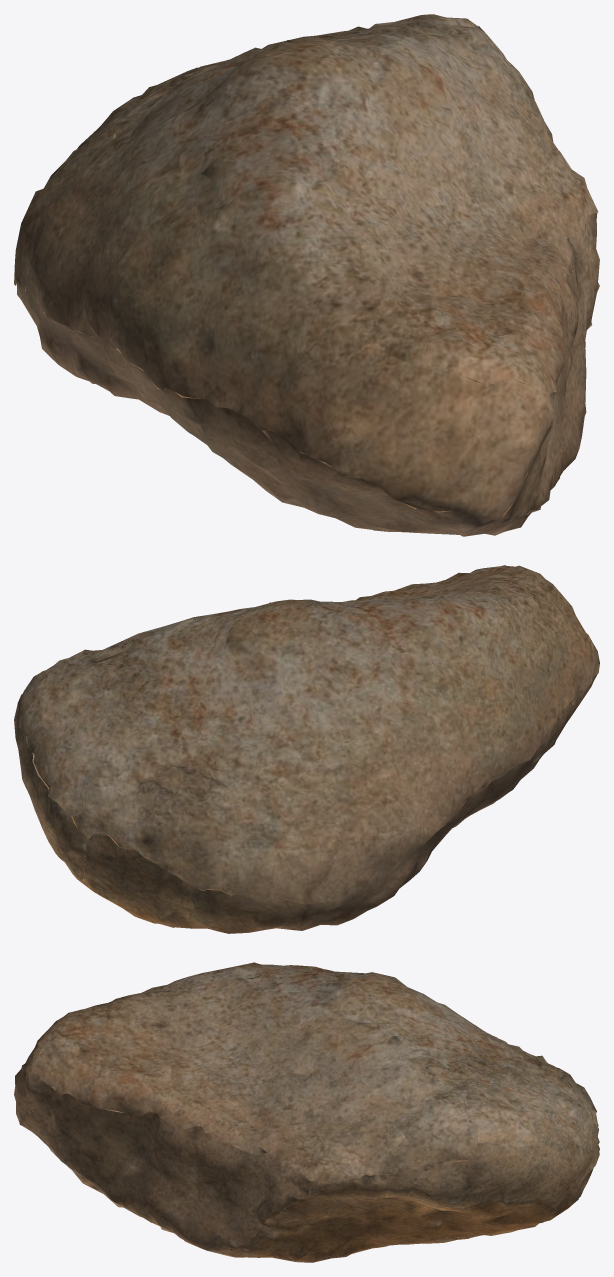
File: ore_boulder_a.glb
3 views of the same model, one above another, from view 1: azimuth 30°, elevation 25°; view 2: azimuth 150°, elevation 25°; view 3: azimuth 270°, elevation 25° (orthographic). The views are drawn at different scales.
Visible parts, largest first — view 1: namaqualand_rocks_01_a; view 2: namaqualand_rocks_01_a; view 3: namaqualand_rocks_01_a.
Boxes of the visible parts, <box> form: namaqualand_rocks_01_a: <box>14,14,599,536</box>; namaqualand_rocks_01_a: <box>14,565,599,933</box>; namaqualand_rocks_01_a: <box>14,962,599,1262</box>.
Bounding box in the file's own units: 0.5092 × 0.3525 × 0.7722.
Materials: 1 (1 with a texture image).
